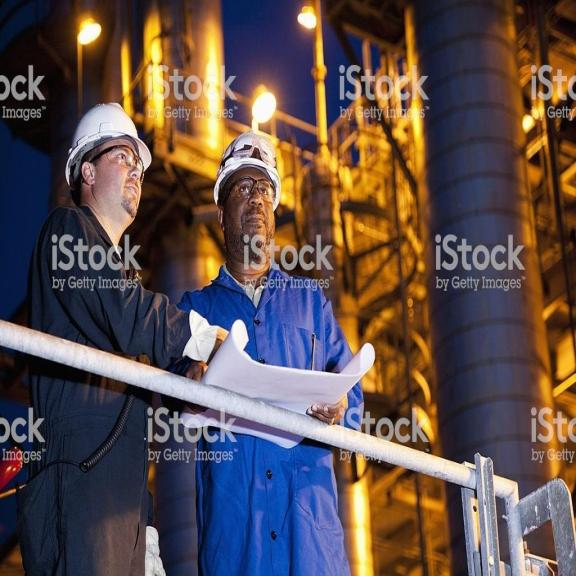no_safety_vest: (197, 263, 319, 375), (34, 201, 128, 344)
